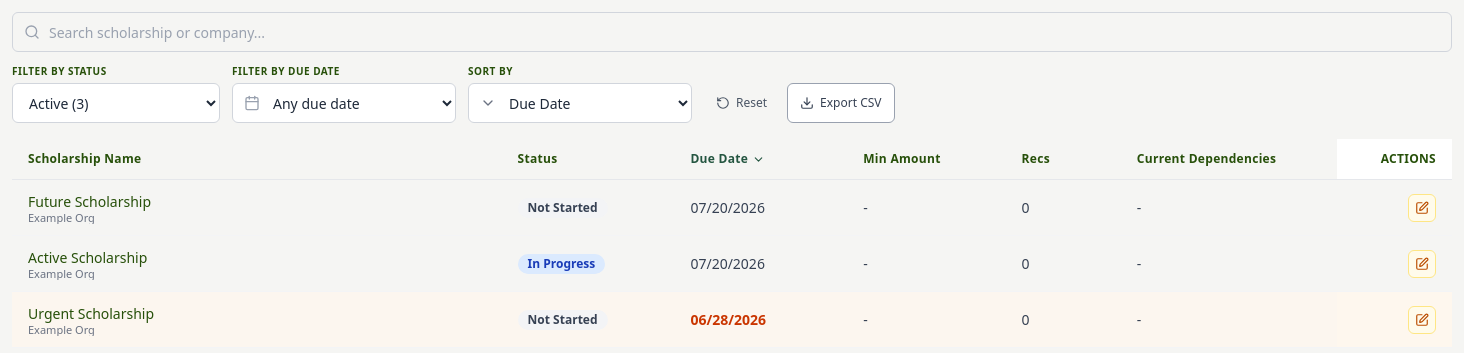
GridView › filters not-started applications with the same count as the radar
Expected: the text "Active Scholarship" is shown, [28,248,147,266]
Expected: the text "Future Scholarship" is shown, [28,192,151,210]
Step 1. Select "Not Started (2)" in the dropdown labelled "Filter by status" → (116, 103), box [12,83,220,123]
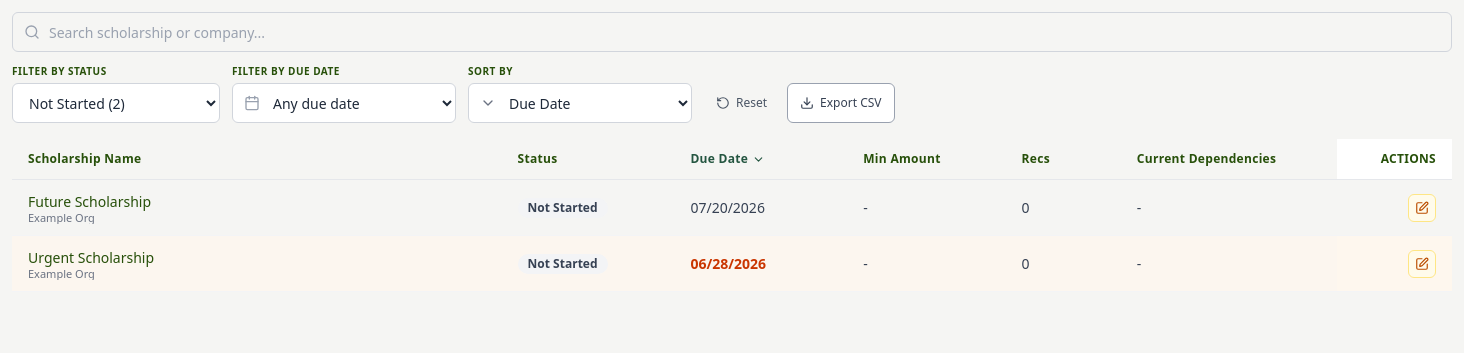
Expected: the text "Future Scholarship" is shown, [28,192,151,210]
Now the text "Active Scholarship" is gone
